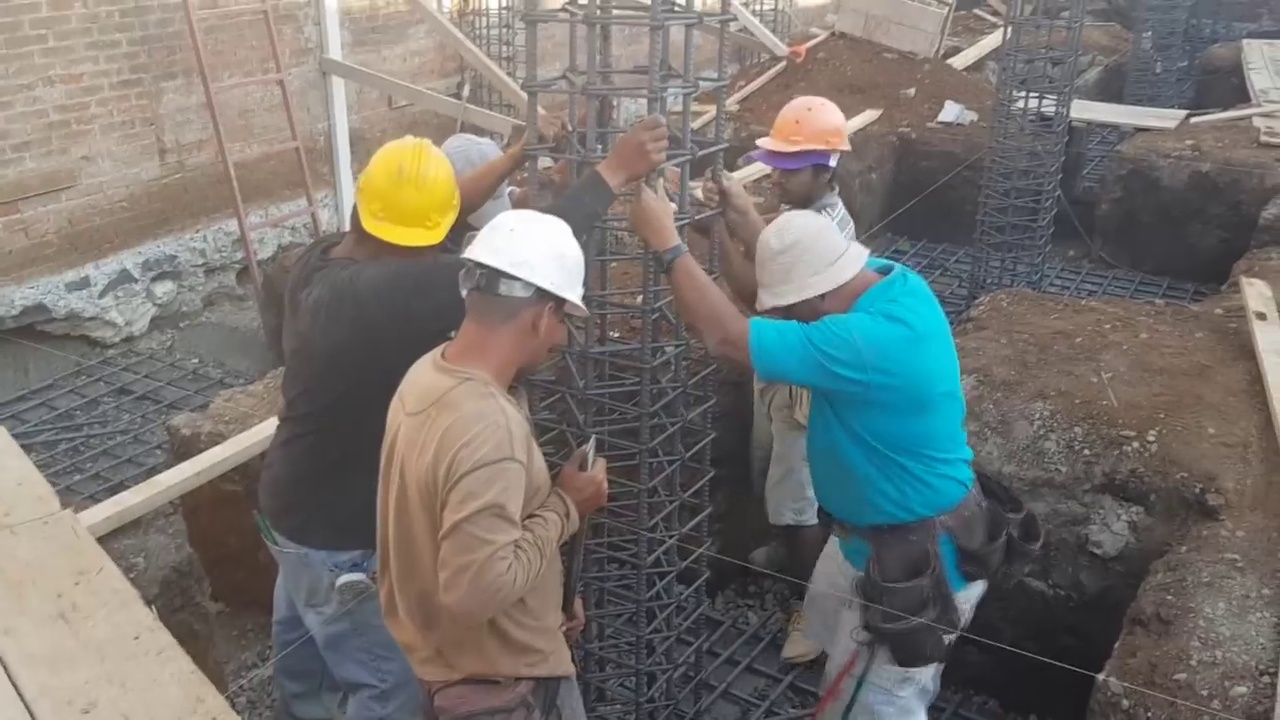helmet: (438, 207, 594, 317), (753, 89, 870, 161)
helmet-off: (741, 210, 892, 330), (438, 128, 511, 232)
helmet-on: (443, 205, 594, 393), (324, 136, 468, 269), (752, 93, 865, 203)
person: (635, 182, 980, 714), (254, 120, 555, 714), (372, 208, 609, 716), (742, 86, 867, 664)
